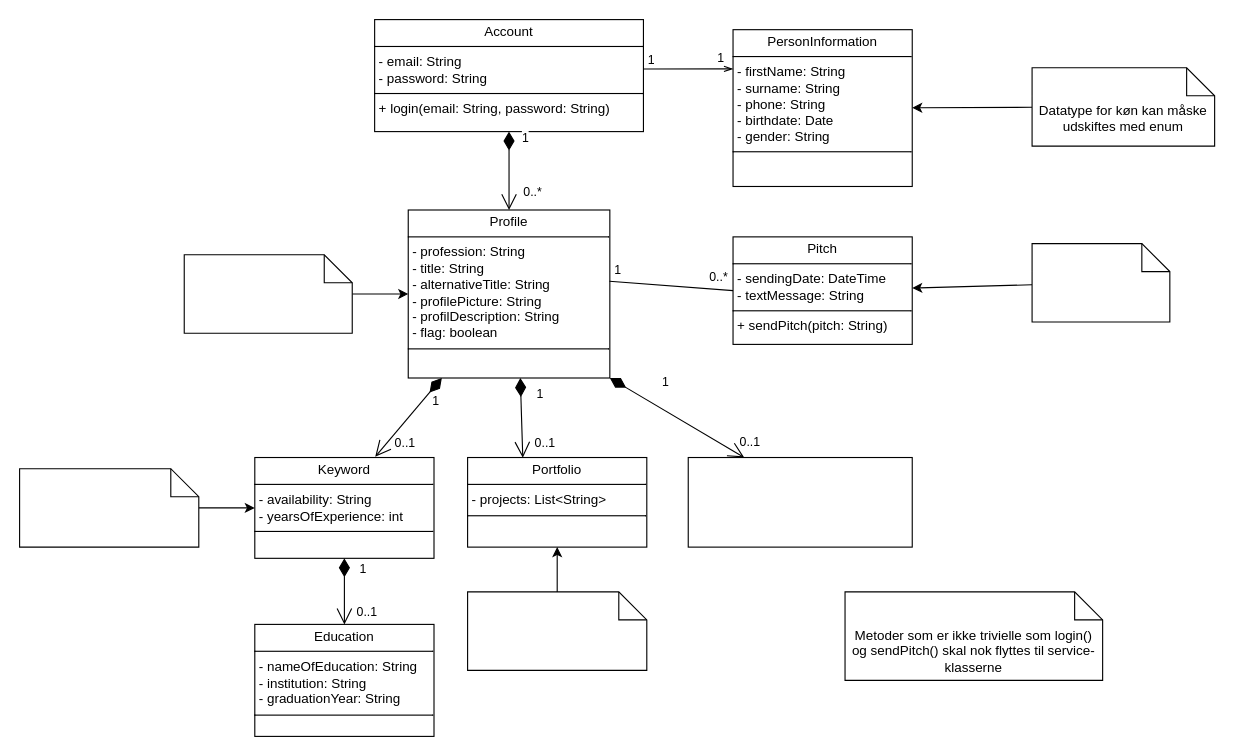
Image size: 1234x756. Some labels were removed from this diagram. The shapes that lost their labels are listed below. From the top down, each one's centre as x and y in pixels, then its label:
At (267,293): "Datatype for profilePicture er ikke afgjort".
At (1100,282): "sendingDate / receivingDato ?".
At (108,507): "tilgængelighed kan måske udskiftes med enum".
At (799,501): "AudienceSpecifications - profession: List<String>".
At (556,630): "Datatype for projekter er ikke afgjort".
